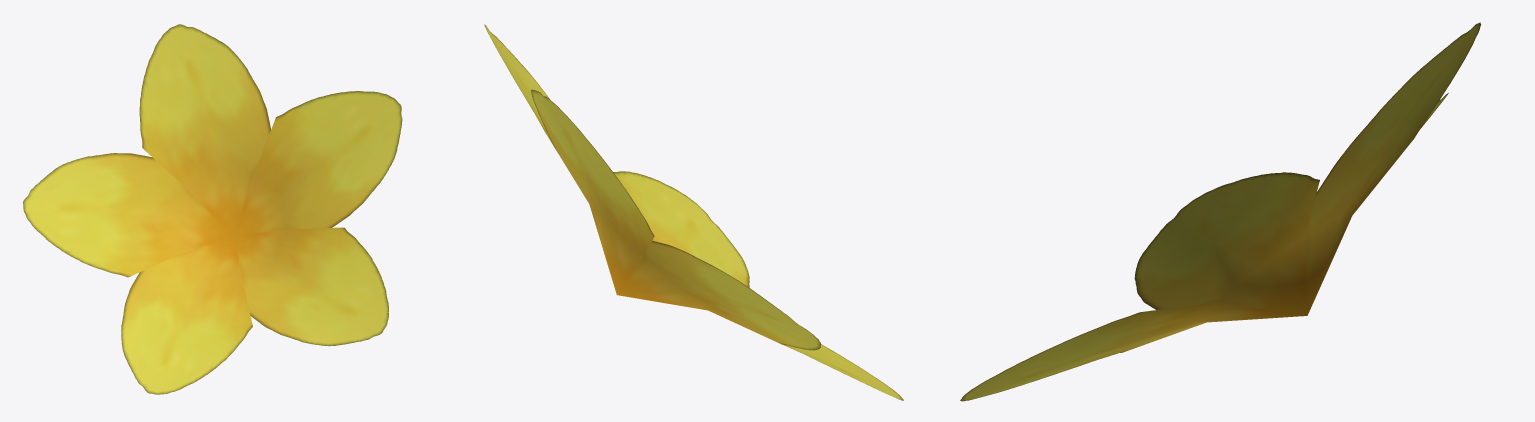
File: sucai_05_05.FBX
The picture shows the model from 3 angles, left to right: view 1: azimuth 30°, elevation 25°; view 2: azimuth 150°, elevation 25°; view 3: azimuth 270°, elevation 25°; orthographic projection. The views are drawn at different scales.
Visible parts, largest first — view 1: sucai_05; view 2: sucai_05; view 3: sucai_05.
Part boxes in pixels (left/top/right/bottom): sucai_05: left=23, top=24, right=402, bottom=394; sucai_05: left=484, top=24, right=903, bottom=400; sucai_05: left=960, top=22, right=1480, bottom=401.
Bounding box in the file's own units: 24.87 × 19.26 × 22.68.
